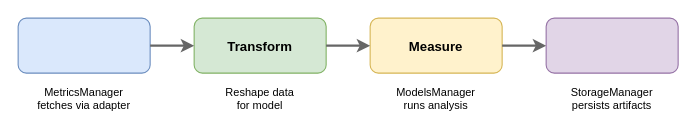
The diagram is 696 pixels wide and 130 high, and some of its shapes have lost their labels. The centre of each missing label's shape, as x and y in pixels:
Load: pixel 83 45
Store: pixel 611 45
